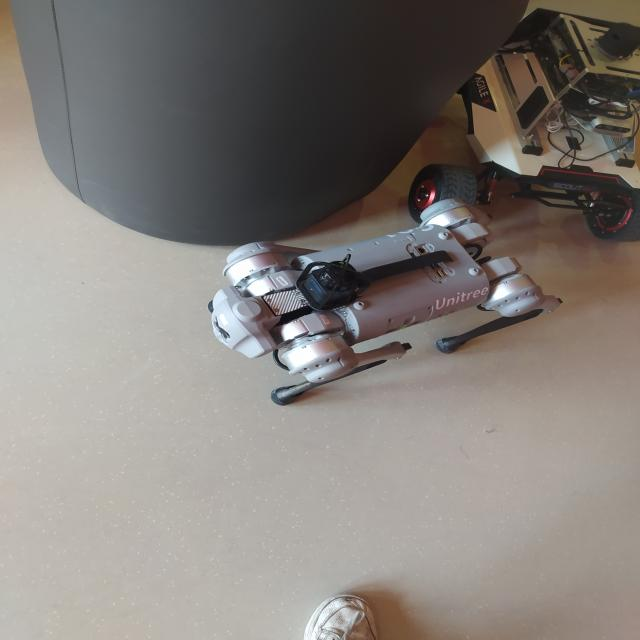unitree-go1-robot: (208, 197, 562, 412)
